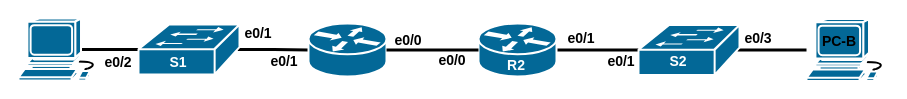
Image size: 907x99. Some labels were removed from this diagram. The shapes that lost their labels are listed below. From the top down, each one's centre as x and y in pixels, then its label:
point (59, 49): PC-A
point (347, 49): R1
